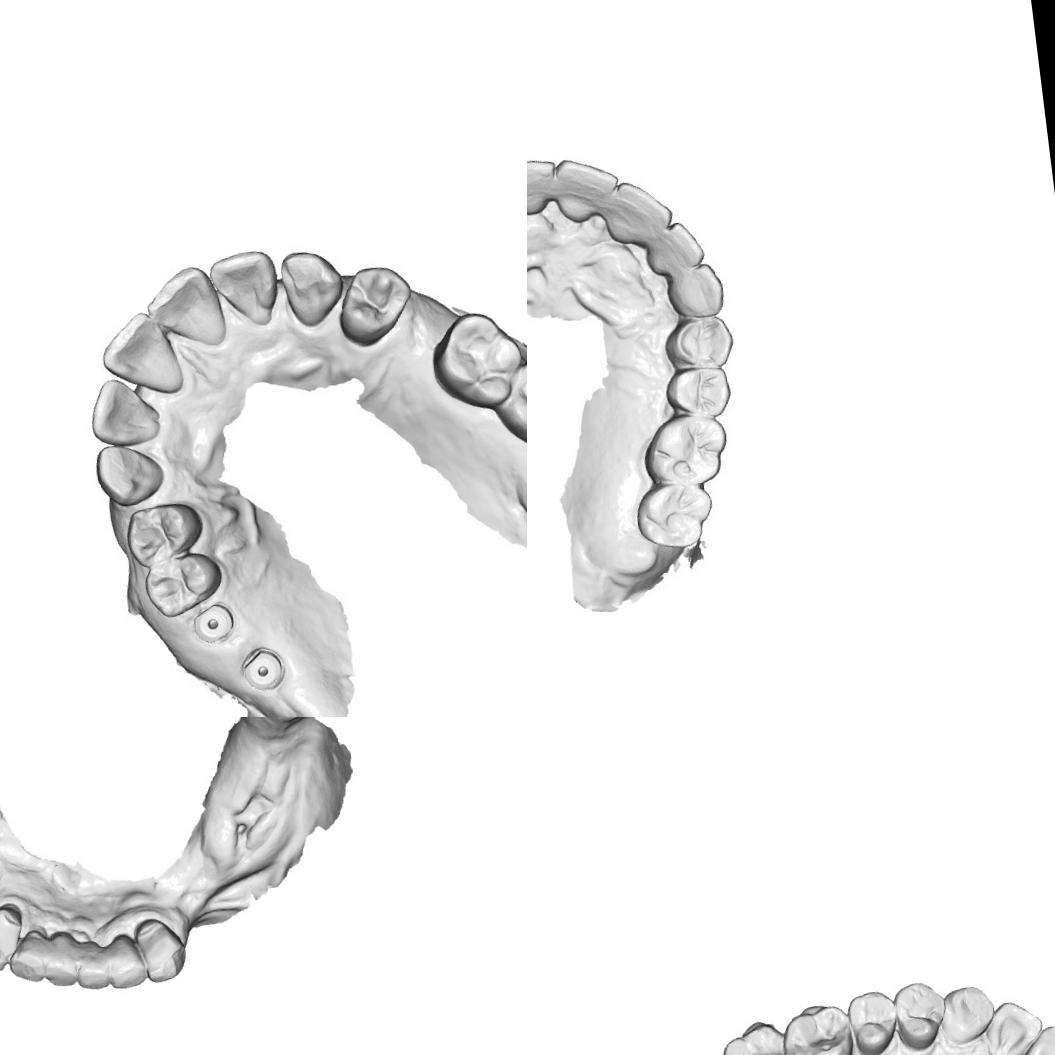canine: (276, 242, 351, 330), (90, 438, 168, 510), (131, 912, 190, 985), (938, 981, 1001, 1048), (664, 261, 728, 320), (0, 902, 30, 975)
implant: (236, 640, 290, 698), (192, 600, 242, 648)
incisor: (94, 307, 184, 400), (140, 262, 226, 352), (206, 244, 282, 335), (87, 375, 165, 448), (602, 177, 676, 253), (554, 154, 623, 222), (980, 996, 1047, 1055), (642, 219, 704, 274), (102, 930, 150, 993), (38, 930, 84, 990), (4, 927, 50, 986), (72, 936, 111, 992), (527, 155, 561, 216), (1015, 1020, 1055, 1055)
molar: (428, 302, 527, 416), (633, 478, 714, 550), (648, 417, 726, 485), (776, 997, 860, 1055), (490, 355, 527, 450), (716, 1015, 797, 1055)
premolar: (331, 262, 419, 351), (136, 548, 226, 621), (120, 498, 206, 568), (890, 977, 951, 1053), (843, 986, 902, 1055), (669, 314, 737, 368), (668, 366, 728, 418)
